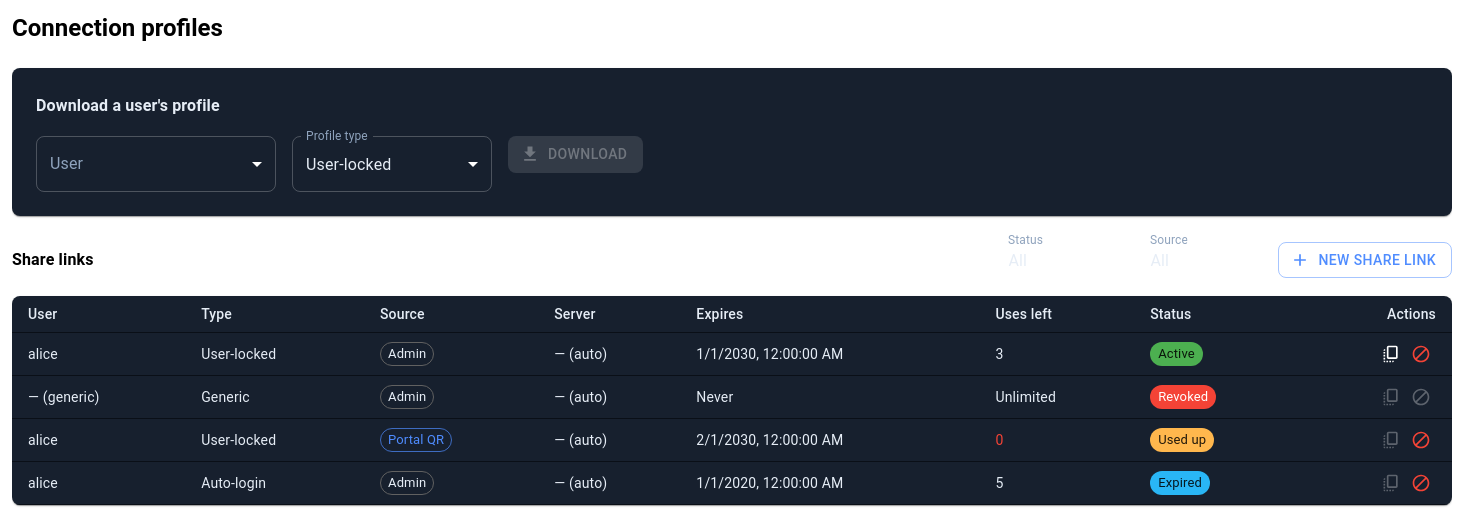
Test: ProfilesPage › filters tokens by source
Expected: the text "— (generic)" is shown, 12,376 -> 185,418
Click the dropdown named "source" at coordinates (1160, 260), box 1150,250 -> 1169,270
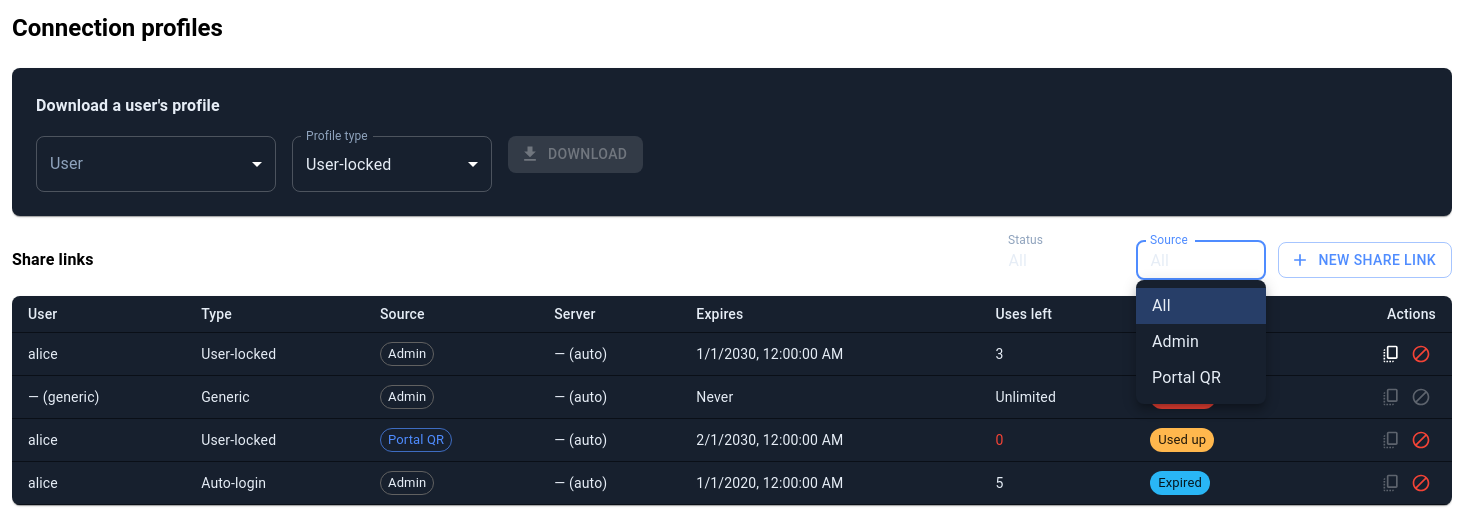
Click the option "Portal QR" at coordinates (1186, 378), box 1152,368 -> 1221,387
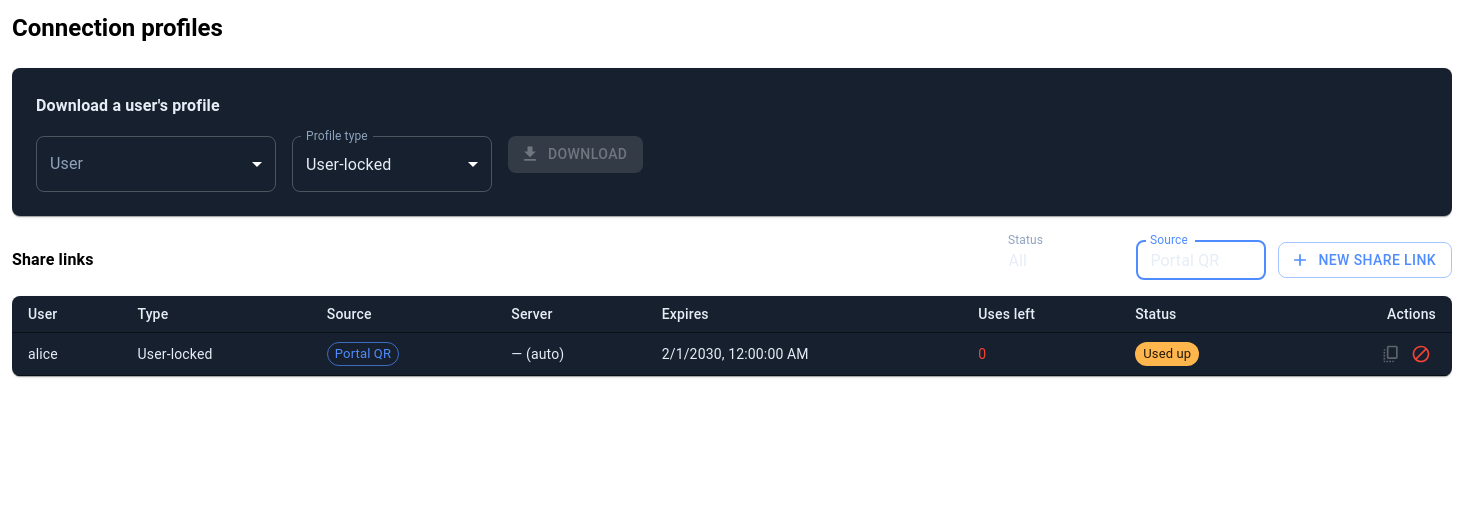
Expected: the text "Portal QR" is shown, 335,346 -> 391,361
Now the number of rows "alice" is 1, box 12,332 -> 1452,376
